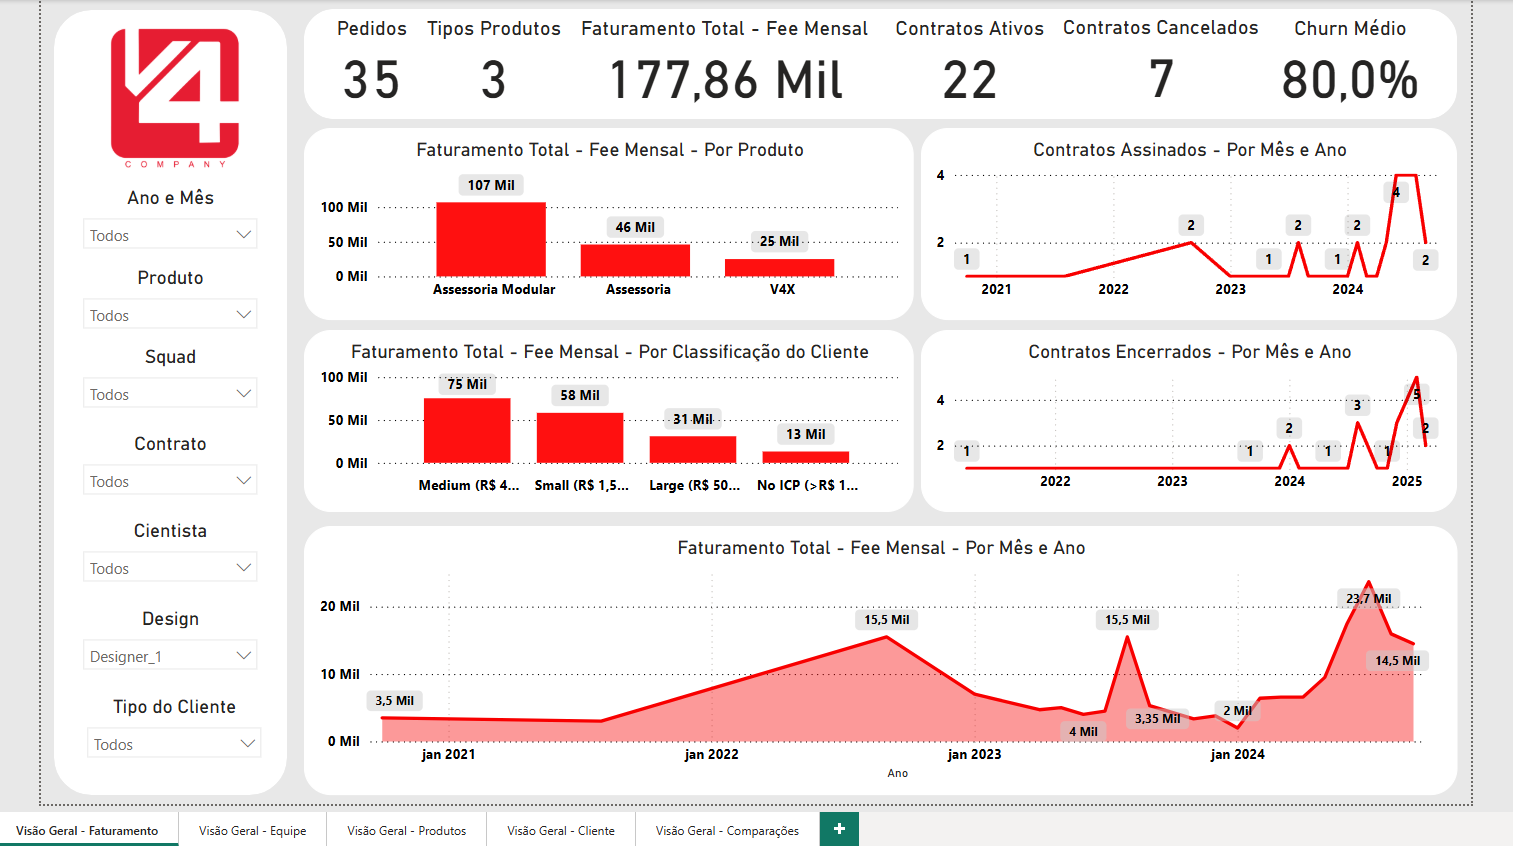

The dashboard page shown, as its layout file describes it:
{"tool":"powerbi","page":{"name":"Visão Geral - Faturamento","canvas":[1280,720],"ordinal":0},"visuals":[{"type":"shape","box":[11.6,9,208.7,703],"z":0},{"type":"shape","box":[235.5,8.1,1032.5,98.5],"z":1000},{"type":"card","title":"Faturamento Total - Fee Mensal","fields":{"Values":["Sum(Sheet1.Fee Mensal)"]},"box":[473.7,14.3,276.7,85.1],"z":2000},{"type":"card","title":"Contratos Ativos","fields":{"Values":["CountNonNull(Sheet1.situacao)"]},"box":[756.7,14.3,150.4,85.1],"z":3000},{"type":"image","box":[40.3,14.3,159.4,146.9],"z":4000},{"type":"lineChart","title":"Faturamento Total - Fee Mensal - Por Mês e Ano","fields":{"Y":["Sum(Sheet1.Fee Mensal)"],"Category":["Sheet1.Data da Assinatura .Variation.Hierarquia de datas.Ano","Sheet1.Data da Assinatura .Variation.Hierarquia de datas.Mês"]},"box":[235.5,471,1032.5,240.9],"z":5000},{"type":"slicer","title":"Ano e Mês","fields":{"Values":["Sheet1.Data da Assinatura .Variation.Hierarquia de datas.Ano","Sheet1.Data da Assinatura .Variation.Hierarquia de datas.Mês"]},"box":[27.8,166.6,176.4,71.6],"z":6000},{"type":"slicer","title":"Squad","fields":{"Values":["Sheet1.Squad"]},"box":[27.8,309,176.4,77.9],"z":7000},{"type":"slicer","title":"Produto","fields":{"Values":["Sheet1.Produto"]},"box":[27.8,238.2,176.4,70.7],"z":8000},{"type":"columnChart","title":"Faturamento Total - Fee Mensal - Por Produto","fields":{"Category":["Sheet1.Produto"],"Y":["Sum(Sheet1.Fee Mensal)"]},"box":[235.5,114.6,546.3,171.9],"z":9000},{"type":"columnChart","title":"Faturamento Total - Fee Mensal - Por Classificação do Cliente","fields":{"Category":["Sheet1.Faturamento"],"Y":["Sum(Sheet1.Fee Mensal)"]},"box":[235.5,295.5,546.3,163],"z":10000},{"type":"slicer","title":"Contrato","fields":{"Values":["Sheet1.situacao"]},"box":[27.8,386.9,176.4,77.9],"z":11000},{"type":"slicer","title":"Cientista","fields":{"Values":["Sheet1.Cientista"]},"box":[27.8,464.8,176.4,78.8],"z":12000},{"type":"slicer","title":"Design","fields":{"Values":["Sheet1.Designer"]},"box":[27.8,543.6,176.4,78.8],"z":13000},{"type":"lineChart","title":"Contratos Encerrados - Por Mês e Ano","fields":{"Category":["Sheet1.datafimcontrato.Variation.Hierarquia de datas.Ano","Sheet1.datafimcontrato.Variation.Hierarquia de datas.Mês"],"Y":["CountNonNull(Sheet1.datafimcontrato)"]},"box":[788.1,295.5,480,163],"z":14000},{"type":"lineChart","title":"Contratos Assinados - Por Mês e Ano","fields":{"Category":["Sheet1.Data da Assinatura .Variation.Hierarquia de datas.Ano","Sheet1.Data da Assinatura .Variation.Hierarquia de datas.Mês"],"Y":["CountNonNull(Sheet1.Data da Assinatura )"]},"box":[788.1,114.6,480,171.9],"z":15000},{"type":"card","title":"Contratos Cancelados","fields":{"Values":["CountNonNull(Sheet1.situacao)"]},"box":[907.2,13.4,191.6,85.1],"z":16000},{"type":"card","title":"Pedidos","fields":{"Values":["CountNonNull(Sheet1.Clientes)"]},"box":[247.2,14.3,98.5,85.1],"z":17000},{"type":"card","title":"Churn Médio","fields":{"Values":["Sheet1.Medida"]},"box":[1092.5,14.3,160.3,85.1],"z":18000},{"type":"slicer","title":"Tipo do Cliente","fields":{"Values":["Sheet1.Faturamento"]},"box":[31.3,622.4,176.4,78.8],"z":19000},{"type":"card","title":"Tipos Produtos","fields":{"Values":["Count(Sheet1.Produto)"]},"box":[337.6,14.3,136.1,85.1],"z":20000}]}

Visuals, with their boxes on the page's 1280x720 design canvas (x1, y1, x2, y2). These are canvas units, not pixel positions in the 1513x846 screenshot, which may show the page scaled, cropped or inside an application window:
shape: Rect(12, 9, 220, 712)
shape: Rect(236, 8, 1268, 107)
"Faturamento Total - Fee Mensal" card: Rect(474, 14, 750, 99)
"Contratos Ativos" card: Rect(757, 14, 907, 99)
image: Rect(40, 14, 200, 161)
"Faturamento Total - Fee Mensal - Por Mês e Ano" lineChart: Rect(236, 471, 1268, 712)
"Ano e Mês" slicer: Rect(28, 167, 204, 238)
"Squad" slicer: Rect(28, 309, 204, 387)
"Produto" slicer: Rect(28, 238, 204, 309)
"Faturamento Total - Fee Mensal - Por Produto" columnChart: Rect(236, 115, 782, 286)
"Faturamento Total - Fee Mensal - Por Classificação do Cliente" columnChart: Rect(236, 296, 782, 458)
"Contrato" slicer: Rect(28, 387, 204, 465)
"Cientista" slicer: Rect(28, 465, 204, 544)
"Design" slicer: Rect(28, 544, 204, 622)
"Contratos Encerrados - Por Mês e Ano" lineChart: Rect(788, 296, 1268, 458)
"Contratos Assinados - Por Mês e Ano" lineChart: Rect(788, 115, 1268, 286)
"Contratos Cancelados" card: Rect(907, 13, 1099, 98)
"Pedidos" card: Rect(247, 14, 346, 99)
"Churn Médio" card: Rect(1092, 14, 1253, 99)
"Tipo do Cliente" slicer: Rect(31, 622, 208, 701)
"Tipos Produtos" card: Rect(338, 14, 474, 99)
